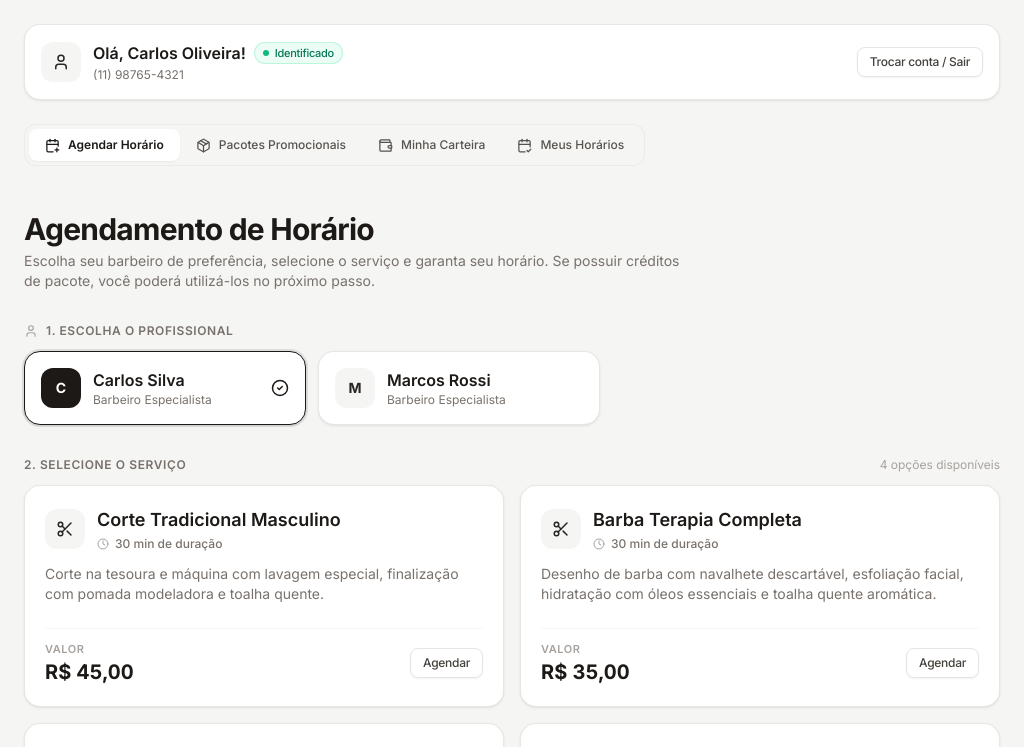
Test: ClientPortal Customer Identification Banner and Reactive Sync › displays greeting banner with customer name, phone, and logout button when authenticated
Expected: the text "Olá, Carlos Oliveira!" is shown, [93,41,246,65]
Expected: the text "(11) 98765-4321" is shown, [93,67,184,82]
Clicking logout removes customer and displays unauthenticated banner again
Click the button "Trocar conta / Sair". click: [920, 62]
box: [857,47,983,77]
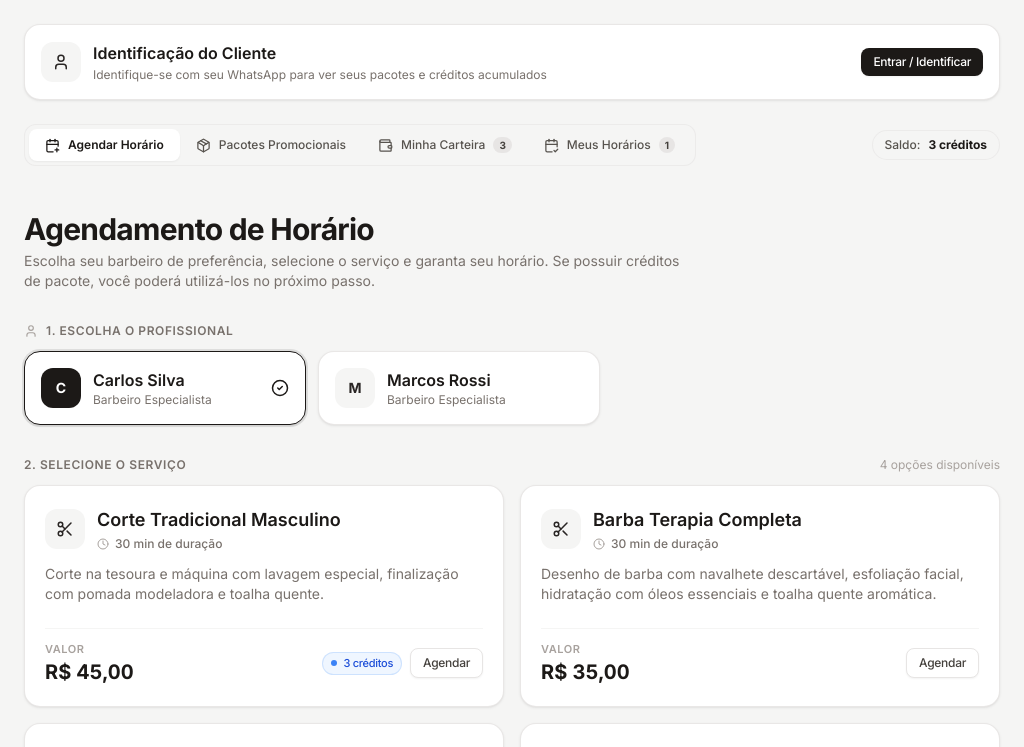
Now the text "Identifique-se com seu WhatsApp" is shown, box [93,67,547,82]
